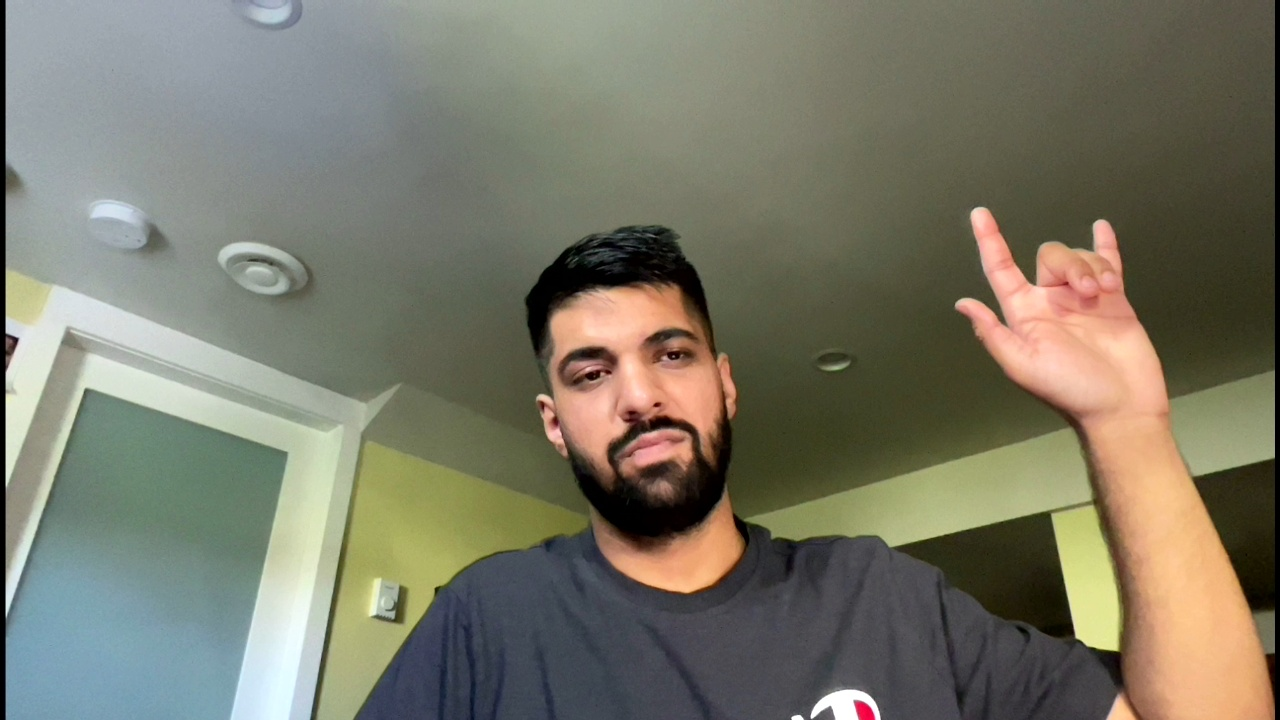HowYouDoing!: (948, 200, 1189, 421)
